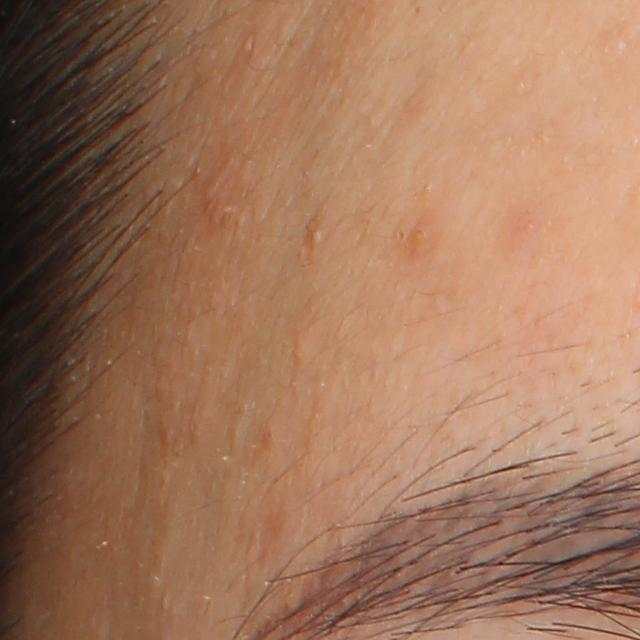comedo: (304, 222, 331, 247)
